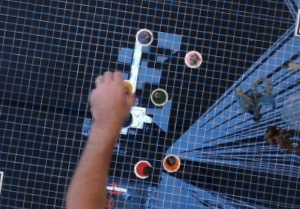blue: (113, 107, 134, 129)
green: (147, 82, 171, 106)
orange: (159, 151, 181, 174)
pink: (182, 45, 206, 69)
red: (129, 154, 154, 181)
violet: (134, 26, 156, 47)
yellow: (109, 73, 136, 99)
